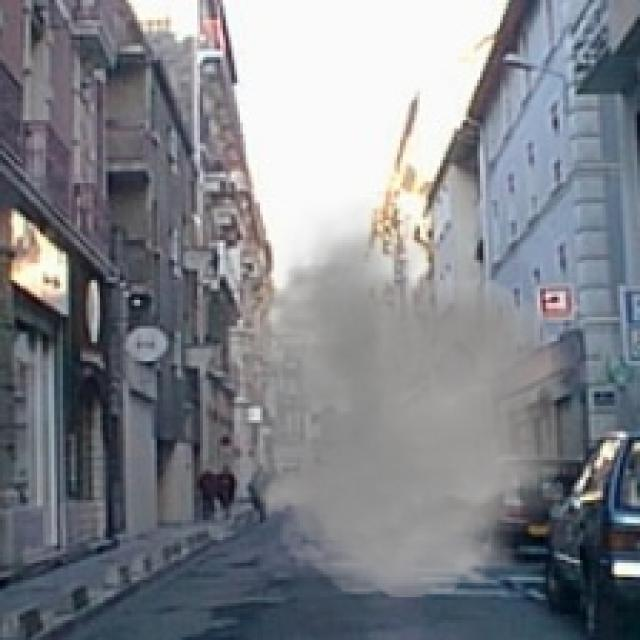Smoke: (206, 197, 623, 609)
